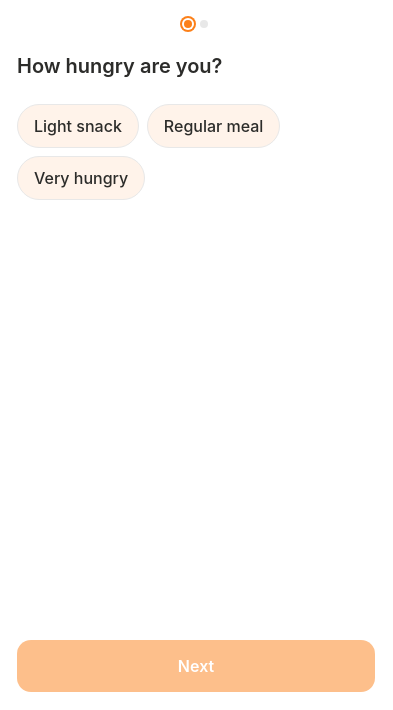
Scenario: Questions — Q3 skip-collapse with q3SkipCount=3 (Item 12) › clicking Next from Q2 lands directly on freetext step (skips Q3)
Step 1. Click the radio button labelled "Regular meal" → coordinates (214, 126), box left=147, top=104, right=280, bottom=148
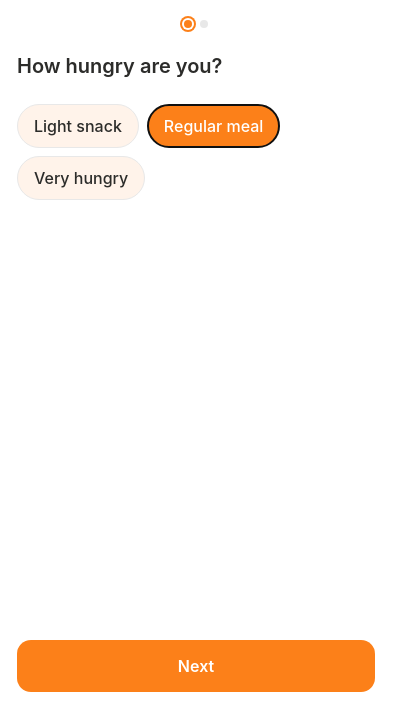
Step 2. Click the button "Next" → coordinates (196, 666), box left=17, top=640, right=375, bottom=692
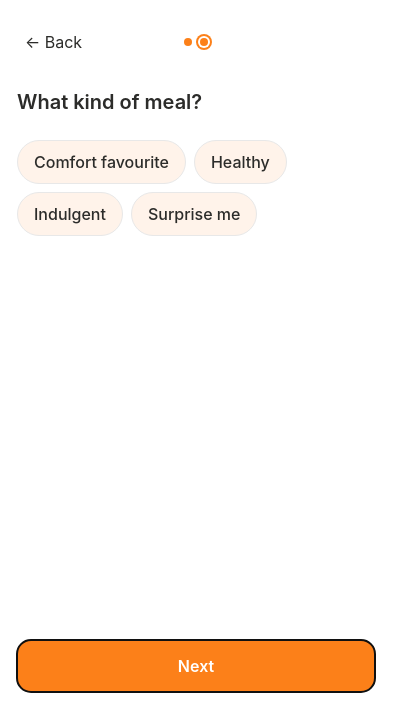
Step 3. Click the button "Next" → coordinates (196, 666), box left=17, top=640, right=375, bottom=692
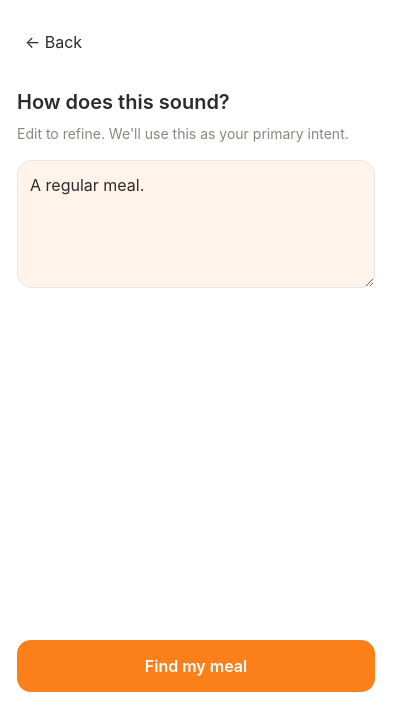
Expected: the heading "How does this sound?" is shown, left=17, top=90, right=230, bottom=114
